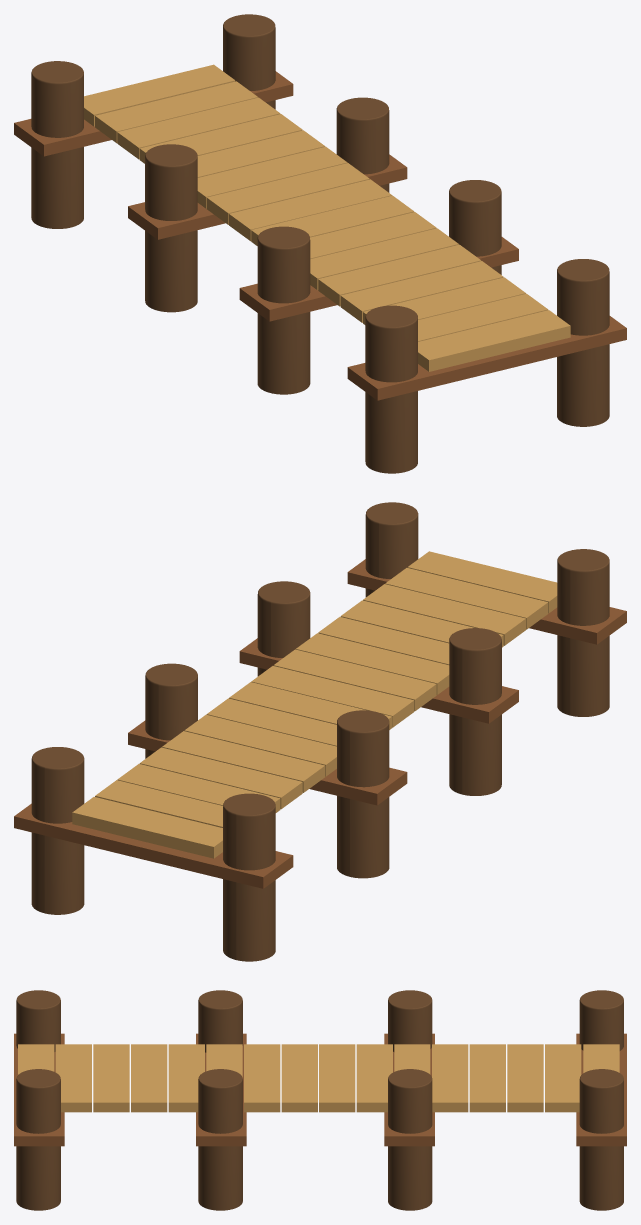
Rendered from bridge.fbx.
The picture shows the model from 3 angles, top to bottom: view 1: azimuth 30°, elevation 25°; view 2: azimuth 150°, elevation 25°; view 3: azimuth 270°, elevation 25°; orthographic projection. The views are drawn at different scales.
Parts seen in each view (by area): view 1: Cube.005; view 2: Cube.005; view 3: Cube.005.
Part boxes in pixels (box(x1,y1,x2,y2)): Cube.005: box(14, 14, 626, 473); Cube.005: box(14, 502, 626, 961); Cube.005: box(14, 990, 626, 1210).
Bounding box in the file's own units: 200 × 112 × 504.
